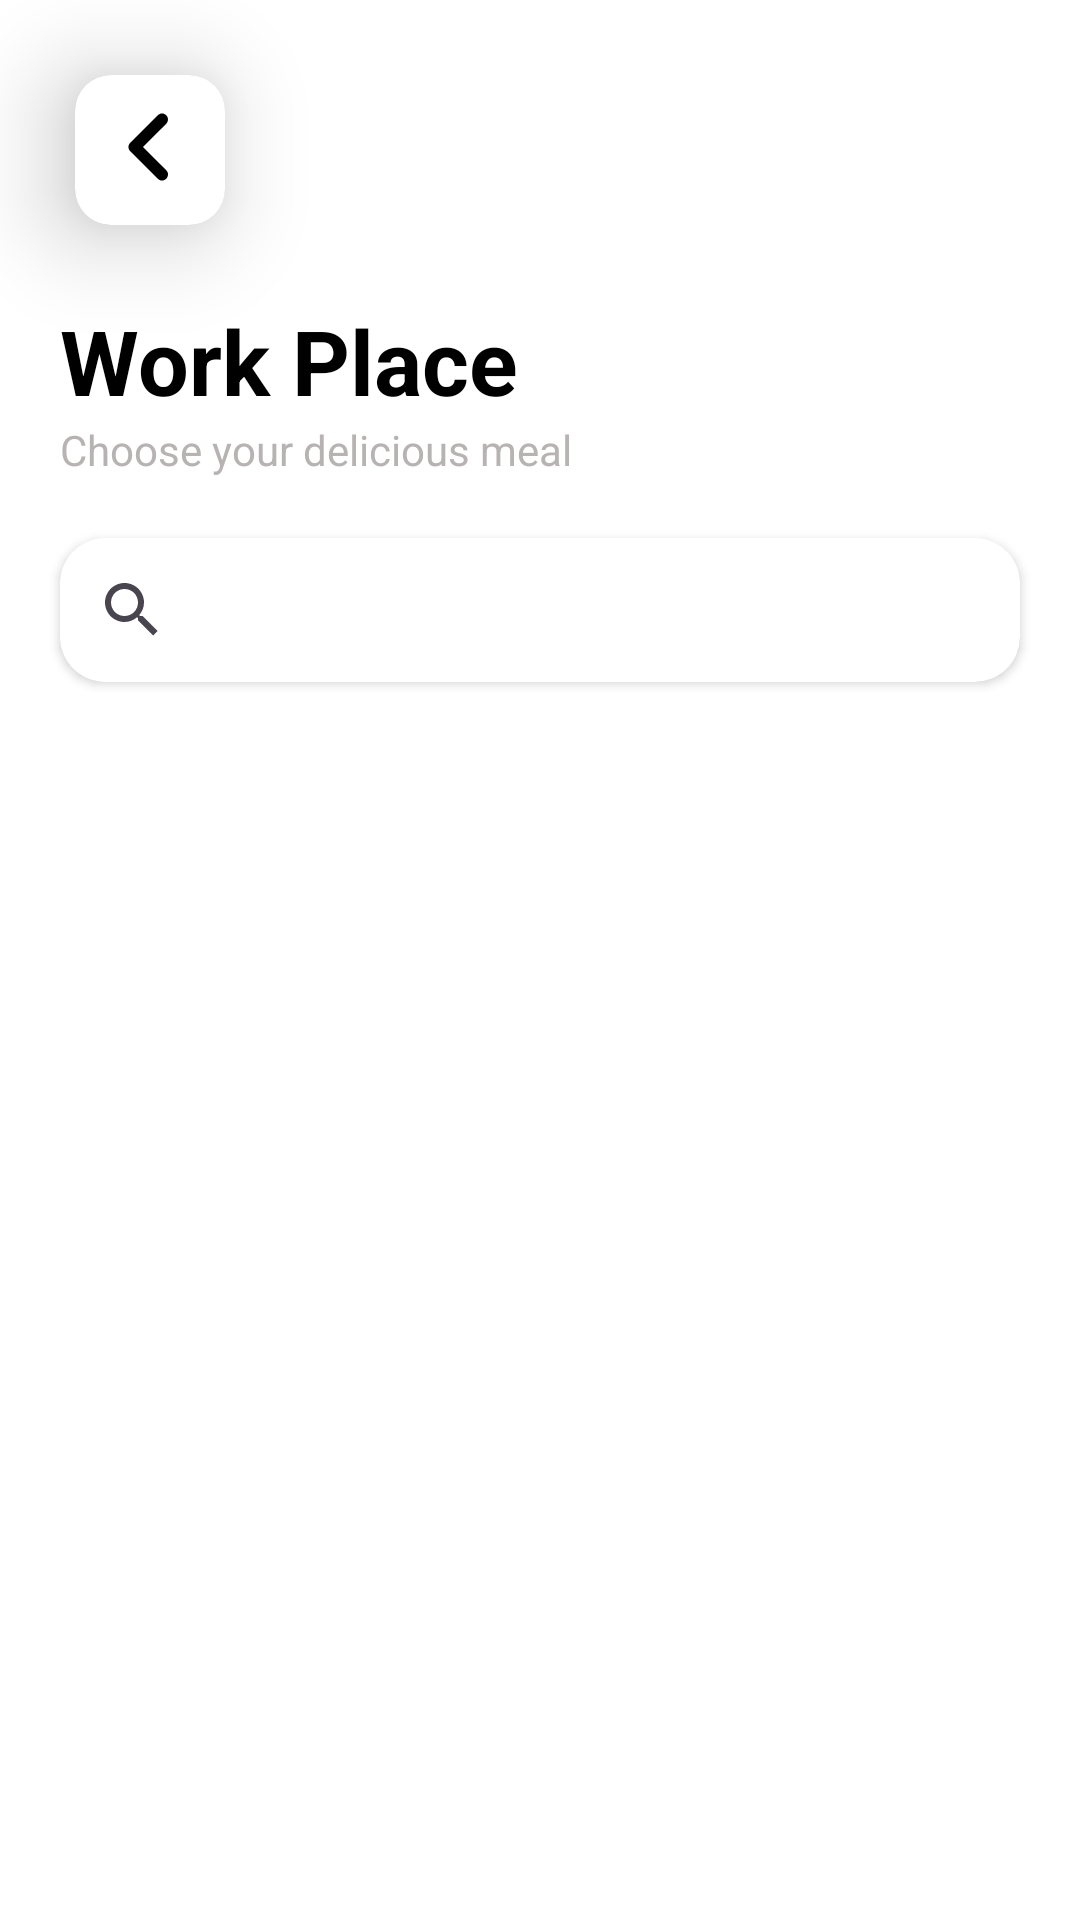

Screen size 1080w x 1920h. Icon name, then its box in pixels as (x1,y1,x2,y2):
chevron left: (75,78,225,222)
